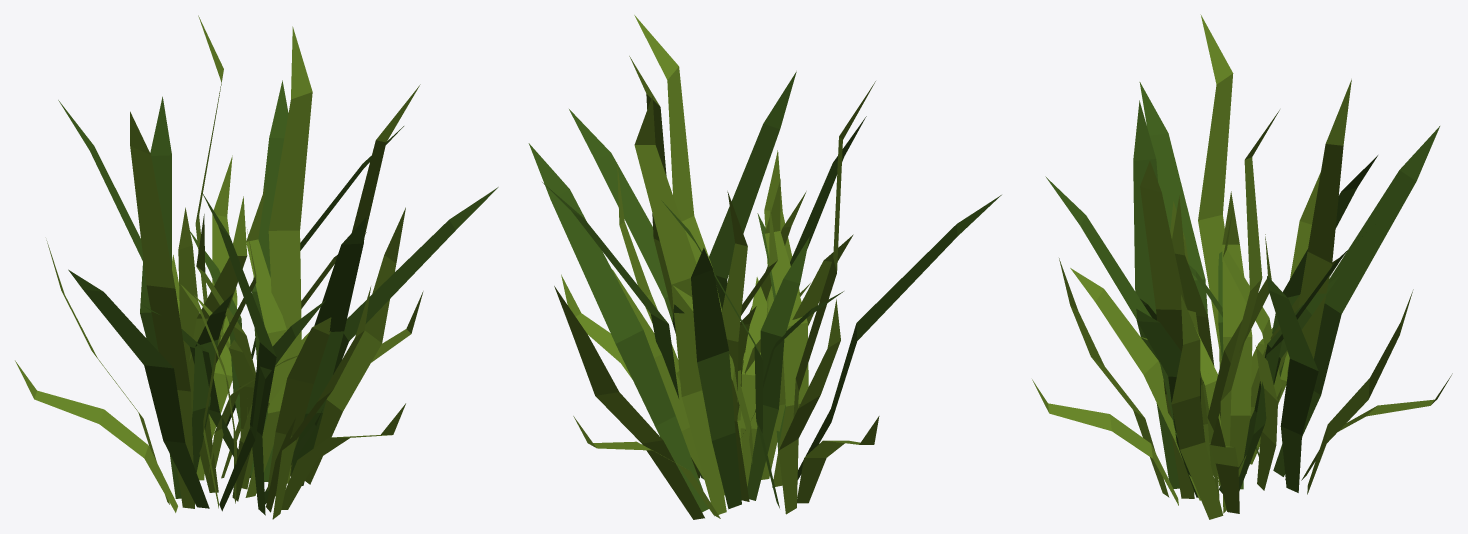
File: grass.fbx
The picture shows the model from 3 angles, left to right: view 1: azimuth 30°, elevation 25°; view 2: azimuth 150°, elevation 25°; view 3: azimuth 270°, elevation 25°; orthographic projection. The views are drawn at different scales.
Parts seen in each view (by area): view 1: Plane.030; view 2: Plane.030; view 3: Plane.030.
Boxes of the visible parts, box(x1,y1,x2,y2) form: Plane.030: box(15, 15, 498, 519); Plane.030: box(528, 15, 1001, 519); Plane.030: box(1032, 14, 1452, 519).
Bounding box in the file's own units: 106 × 102 × 91.18.
